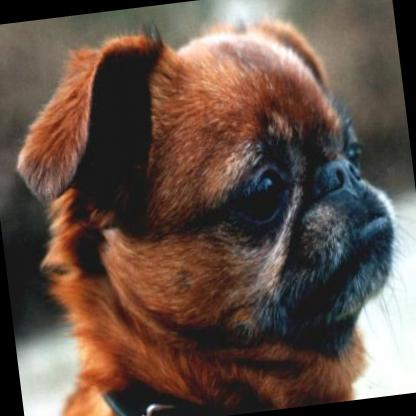Brabancon_griffon: (0, 2, 414, 416)
